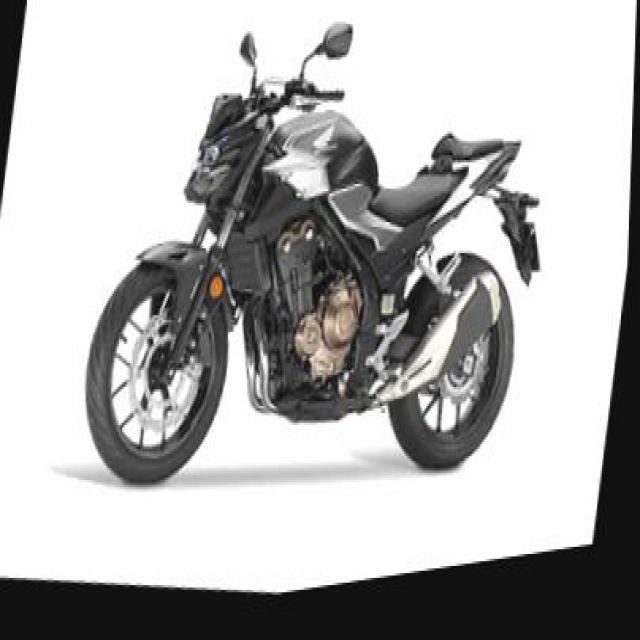CB500F: (69, 0, 577, 581)
